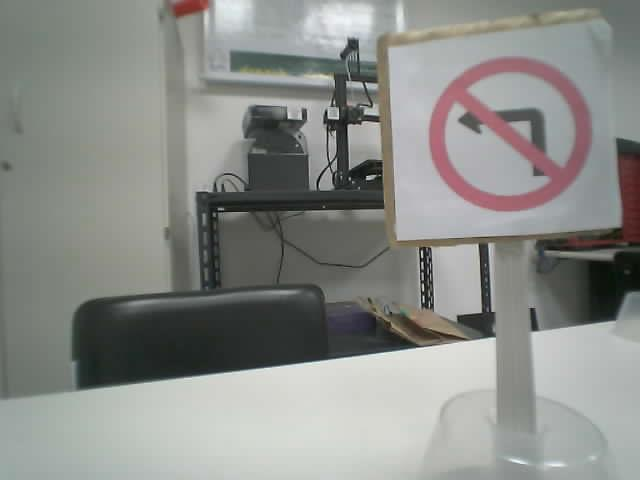R-4a_proibido-esquerda: (427, 56, 591, 212)
